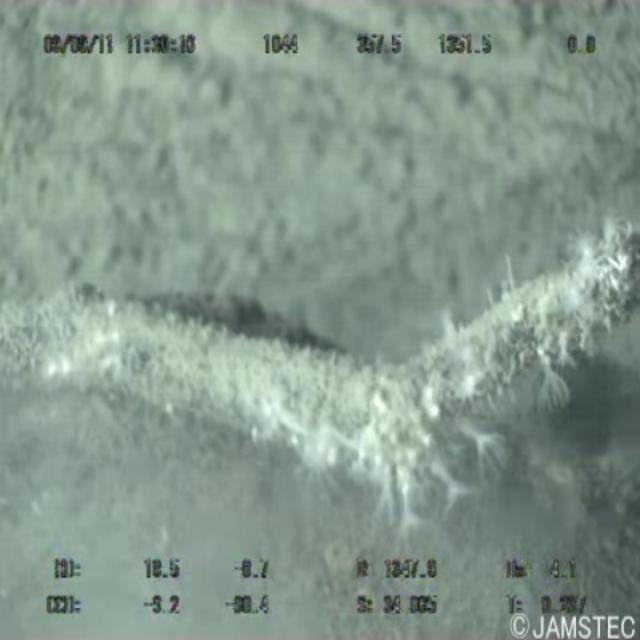Wood: (4, 216, 640, 488)
